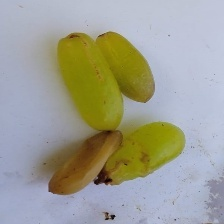grapes: (41, 59, 212, 201)
